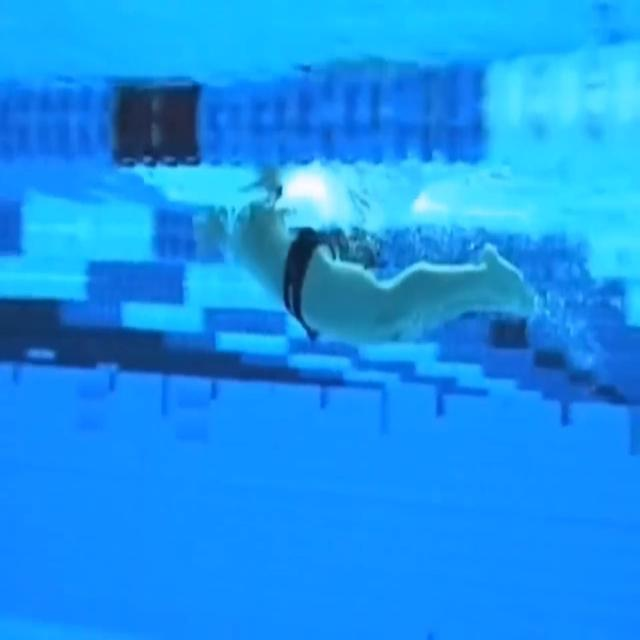Swimming: (193, 196, 538, 347)
